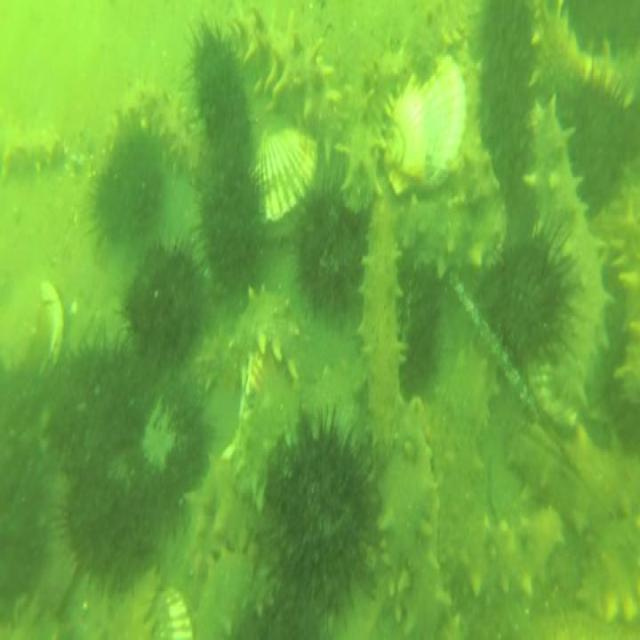echinus: (260, 409, 382, 621), (45, 328, 145, 476), (58, 463, 164, 588), (397, 191, 511, 291), (493, 224, 572, 368), (122, 237, 207, 368), (84, 125, 169, 251), (293, 182, 367, 326), (124, 381, 210, 502), (184, 19, 252, 167), (196, 162, 268, 298), (0, 442, 55, 614), (453, 38, 503, 210), (569, 74, 629, 214), (396, 254, 444, 394)
holothurian: (430, 335, 563, 602), (522, 95, 616, 433), (374, 398, 468, 640), (224, 3, 348, 168), (504, 412, 640, 539), (192, 277, 308, 398), (357, 196, 407, 453), (528, 0, 640, 114), (180, 452, 266, 591), (104, 74, 200, 179), (188, 526, 276, 640), (382, 2, 480, 90), (573, 506, 640, 624), (337, 63, 388, 215), (608, 204, 640, 416), (0, 118, 67, 182)
scallop: (387, 44, 469, 191), (259, 124, 318, 244), (0, 272, 66, 378), (150, 580, 196, 640)
